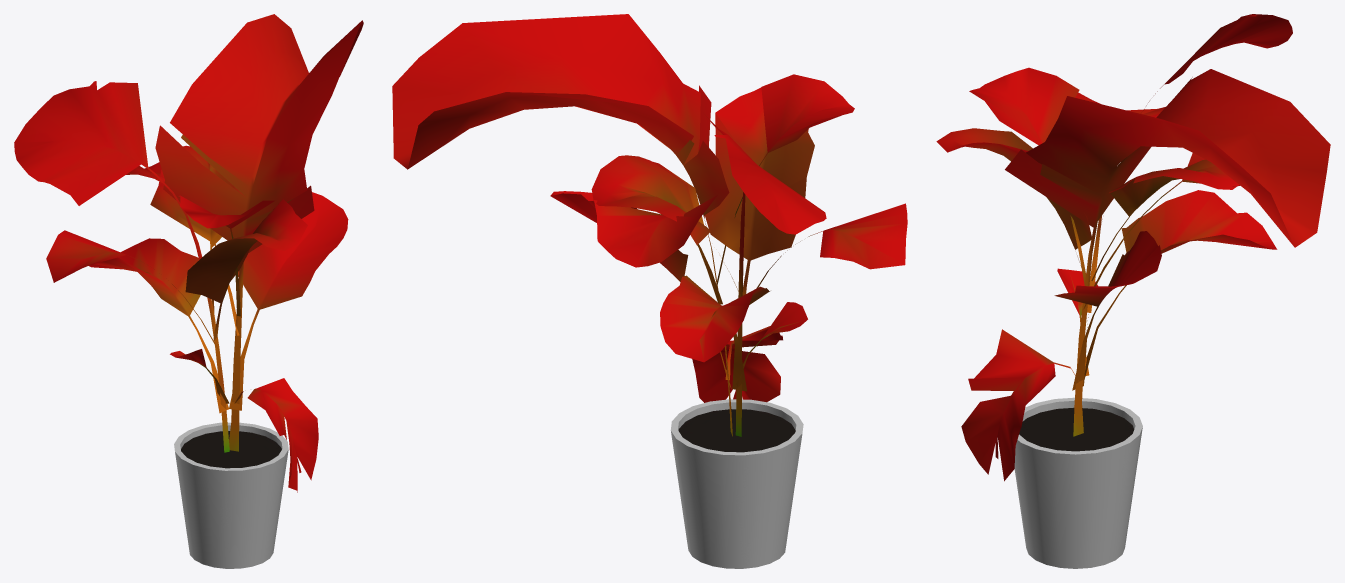
File: plant02.fbx
3 renders of one model, left to right at view 1: azimuth 30°, elevation 25°; view 2: azimuth 150°, elevation 25°; view 3: azimuth 270°, elevation 25°, orthographic. The views are drawn at different scales.
Parts seen in each view (by area): view 1: polySurface5; view 2: polySurface5; view 3: polySurface5.
Part boxes in pixels (x1,y1,x2,y2): polySurface5: [14, 14, 363, 568]; polySurface5: [392, 14, 907, 568]; polySurface5: [936, 14, 1330, 568].
Bounding box in the file's own units: 250 × 285 × 195.
